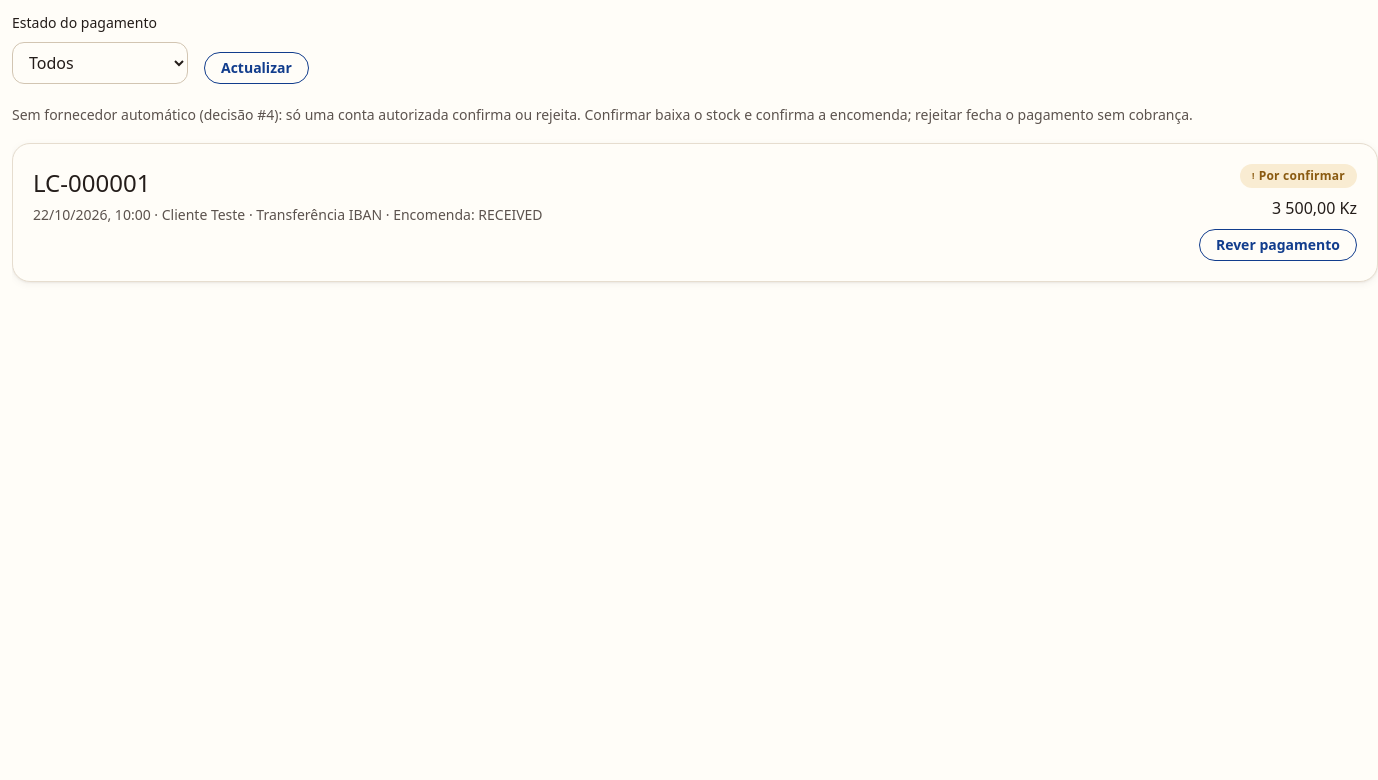
Scenario: painel: fila de pagamentos › revisão rejeitada pelo servidor (409) mostra o motivo sem perder a fila
Expected: the link "LC-000001" is shown, [33,166,150,199]
Click the button "Rever pagamento". click: click(1278, 245)
box: [1199,229,1357,261]
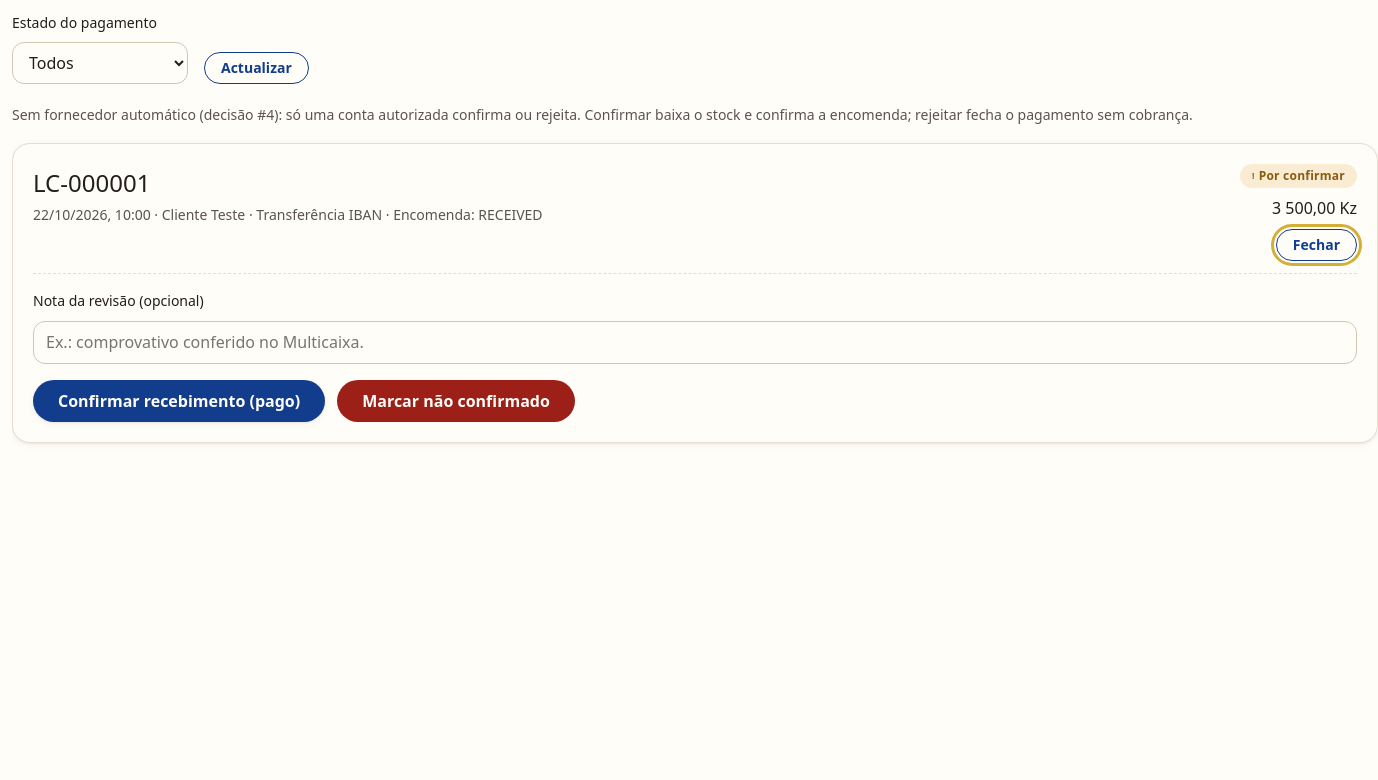
Click the button "Confirmar recebimento (pago)". click: click(179, 401)
box: [33,380,325,422]
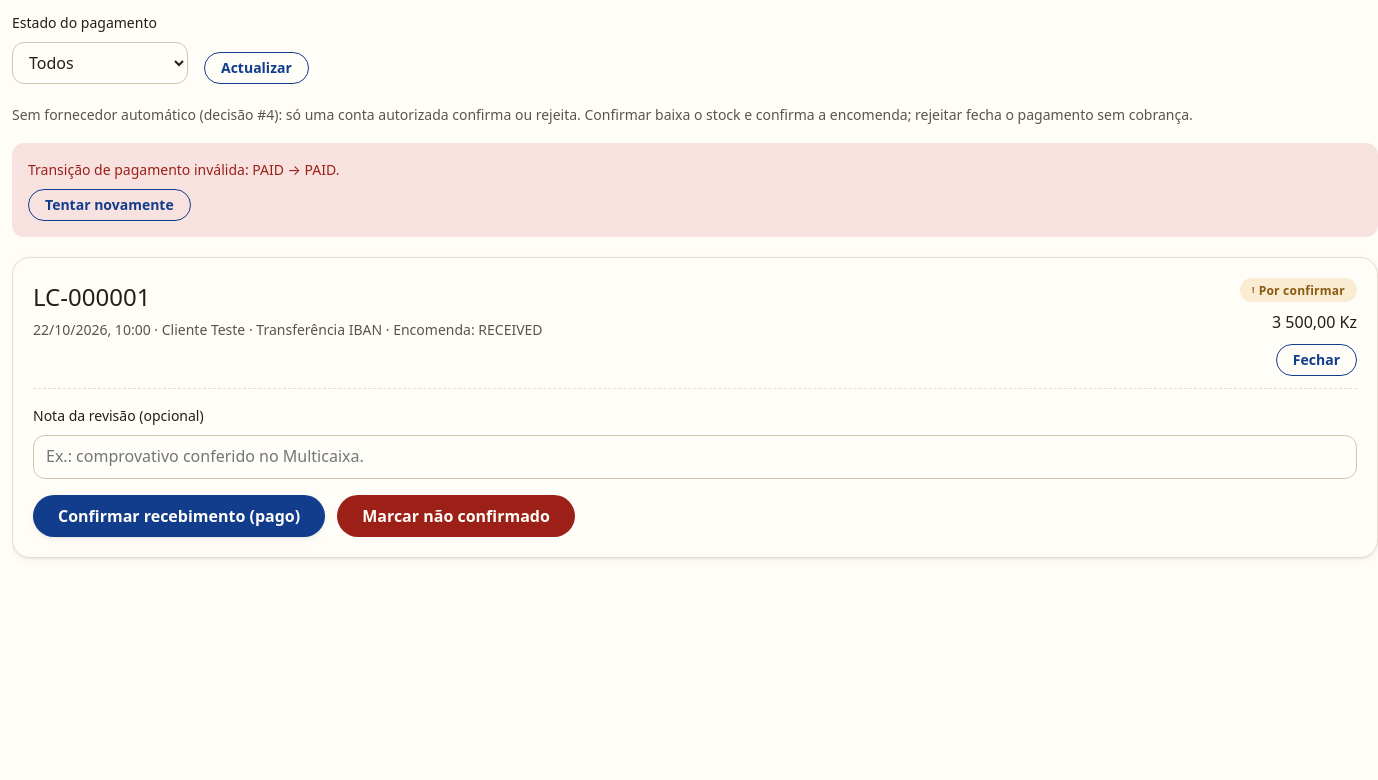
Expected: the link "LC-000001" is shown, [33,280,150,313]
Result: the message shows "Transição de pagamento inválida" at [28,160,340,179]
